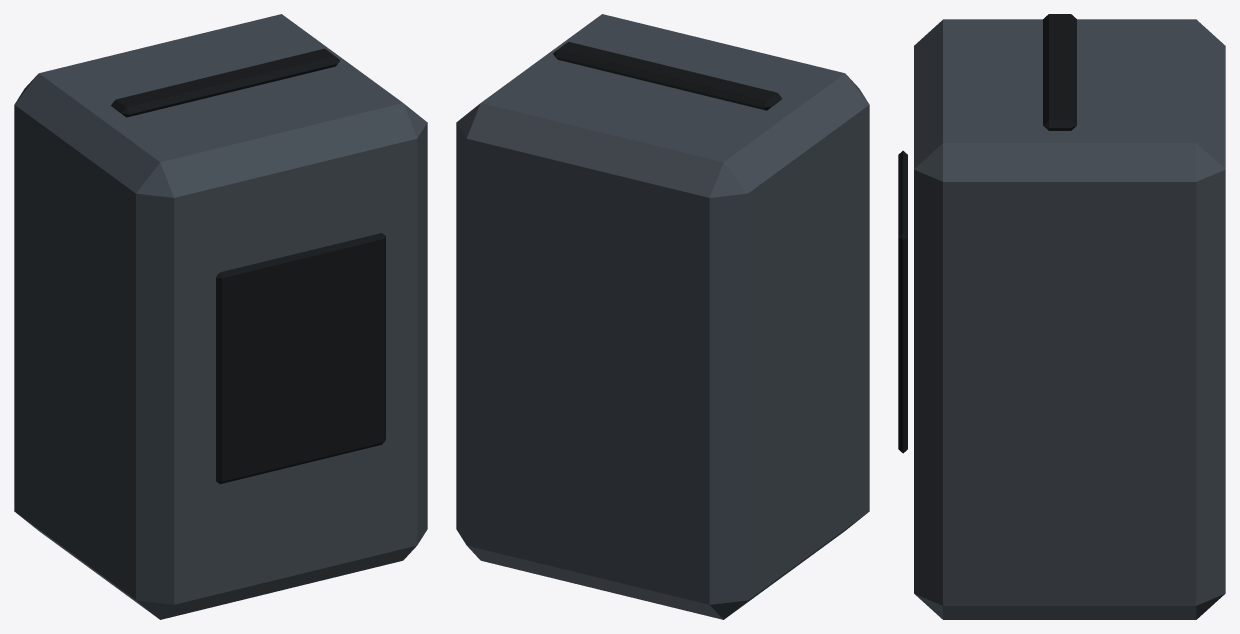
The model's file is PaperShredder.fbx.
The picture shows the model from 3 angles, left to right: view 1: azimuth 30°, elevation 25°; view 2: azimuth 150°, elevation 25°; view 3: azimuth 270°, elevation 25°; orthographic projection. The views are drawn at different scales.
Parts seen in each view (by area): view 1: PaperShredder; view 2: PaperShredder; view 3: PaperShredder.
Boxes of the visible parts, <box> form: PaperShredder: <box>14,14,427,619</box>; PaperShredder: <box>456,14,869,619</box>; PaperShredder: <box>898,14,1225,619</box>.
Bounding box in the file's own units: 36 × 55.6 × 33.6.
1 material, 1 textured.
